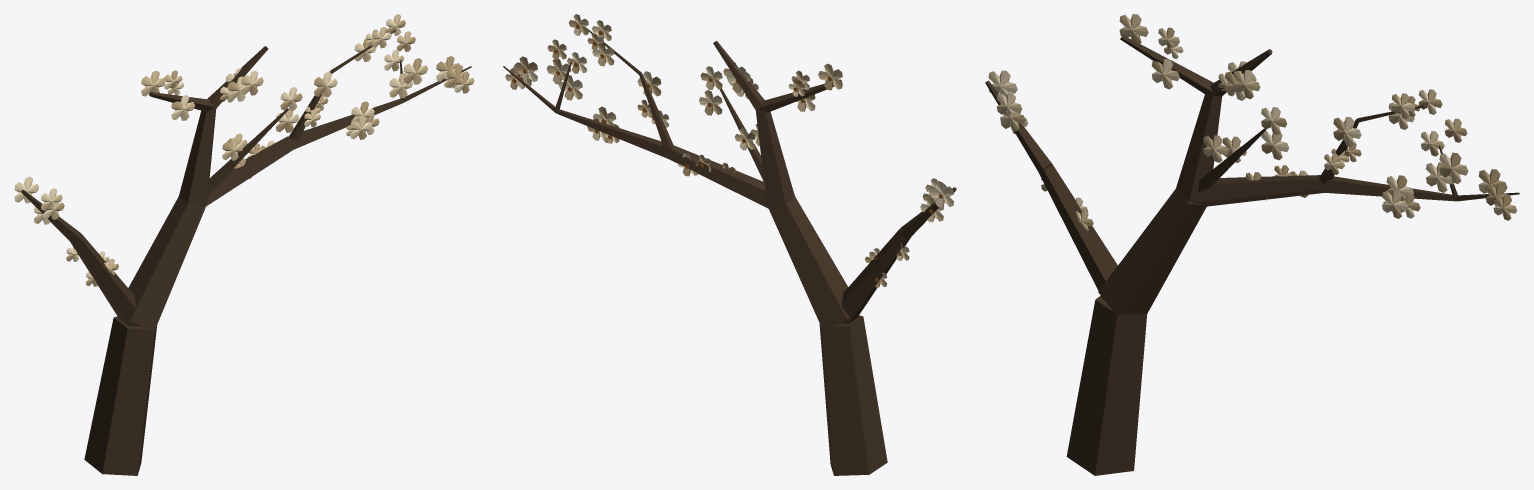
The model's file is blossom-frame.obj.
The picture shows the model from 3 angles, left to right: view 1: azimuth 30°, elevation 25°; view 2: azimuth 150°, elevation 25°; view 3: azimuth 330°, elevation 25°; orthographic projection. The views are drawn at different scales.
Size of the model in its own units: 5.25 by 4.35 by 0.6557.
